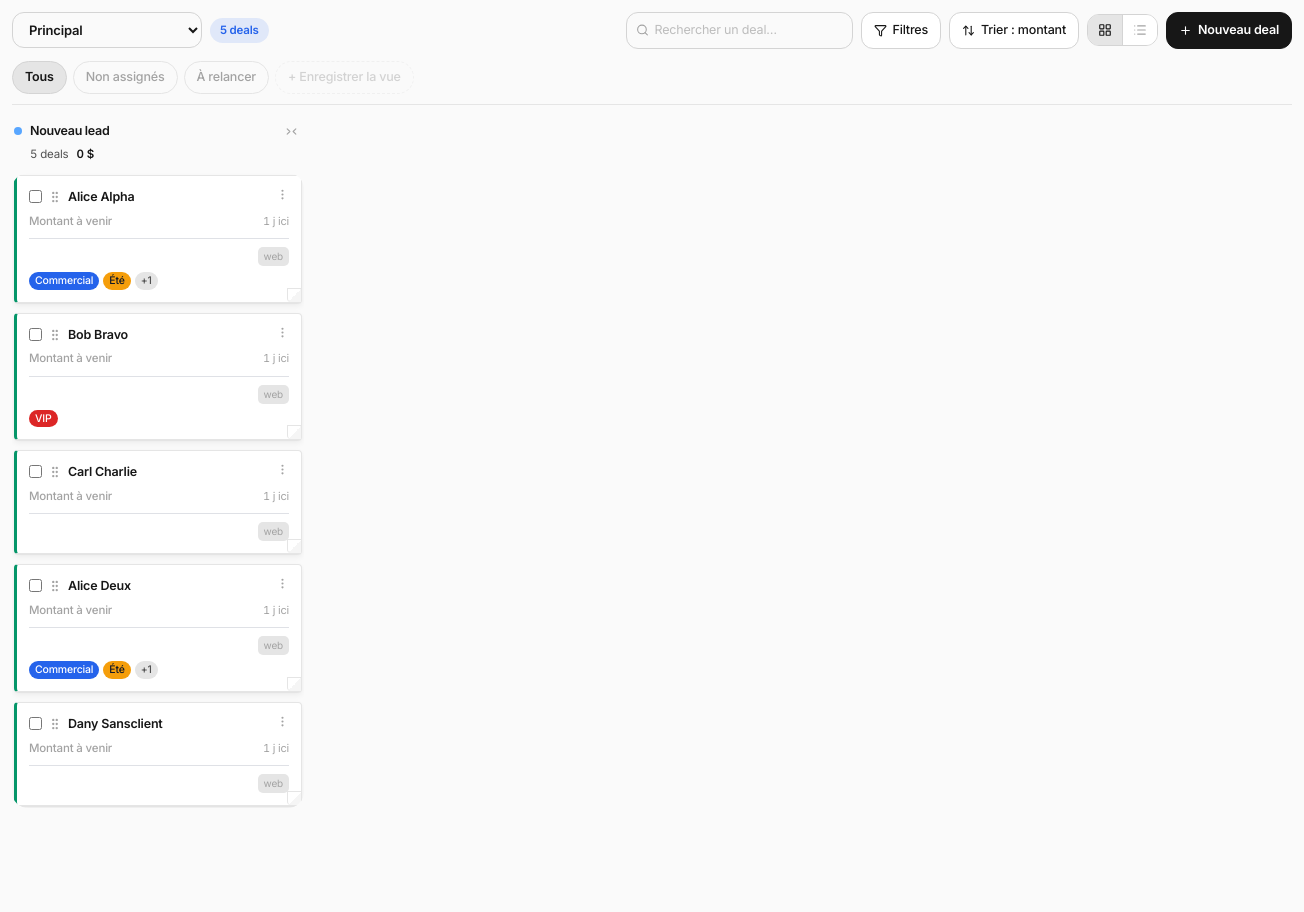
Test: carte du deal — étiquettes du client › vue Liste : colonne « Étiquettes »
Click the button named "Vue liste" at (1140, 30), box [1122,15,1157,45]
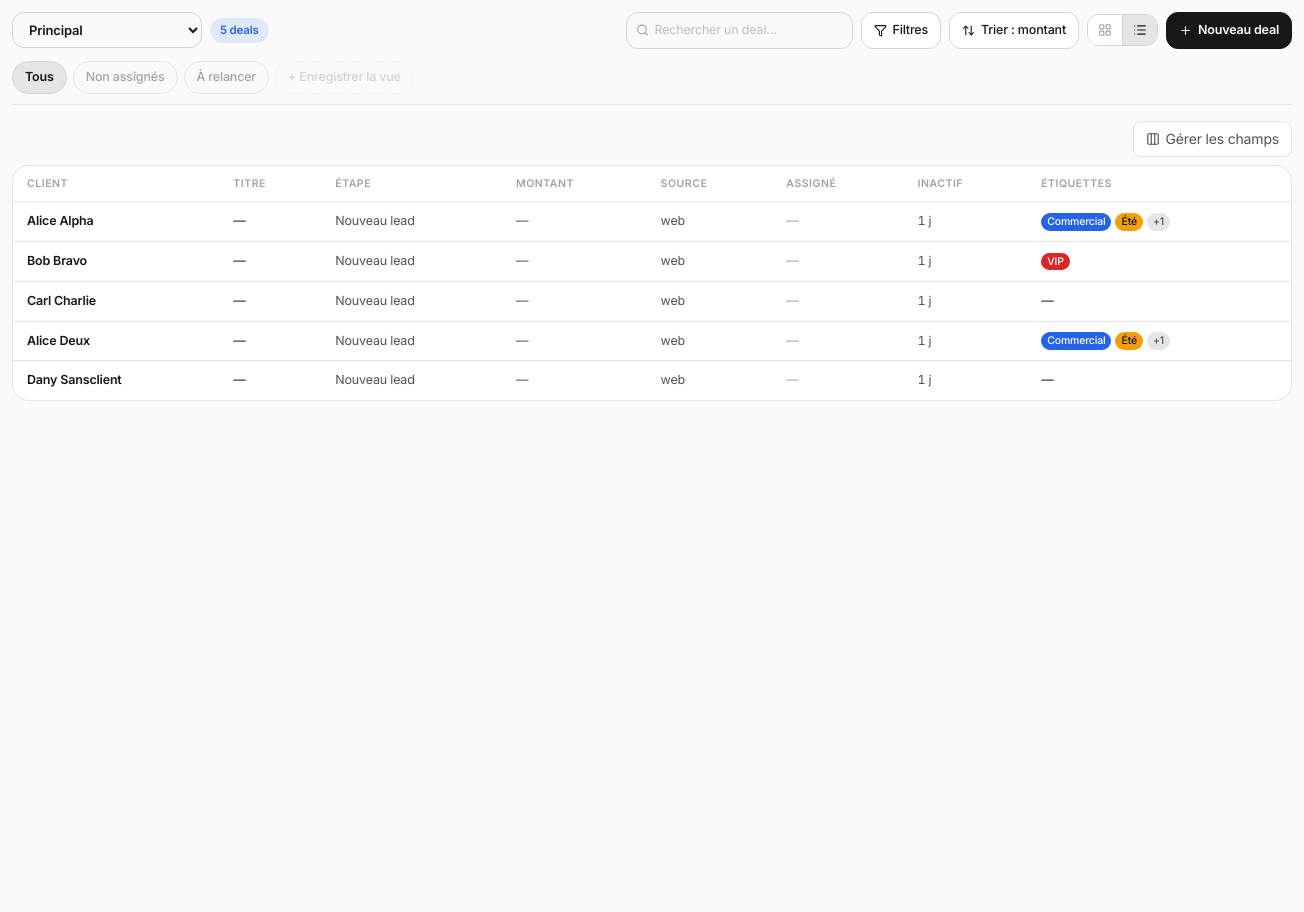
Result: the button "Bob Bravo — Nouveau lead — web — 1 j VIP" is shown at [13,242,1291,281]
